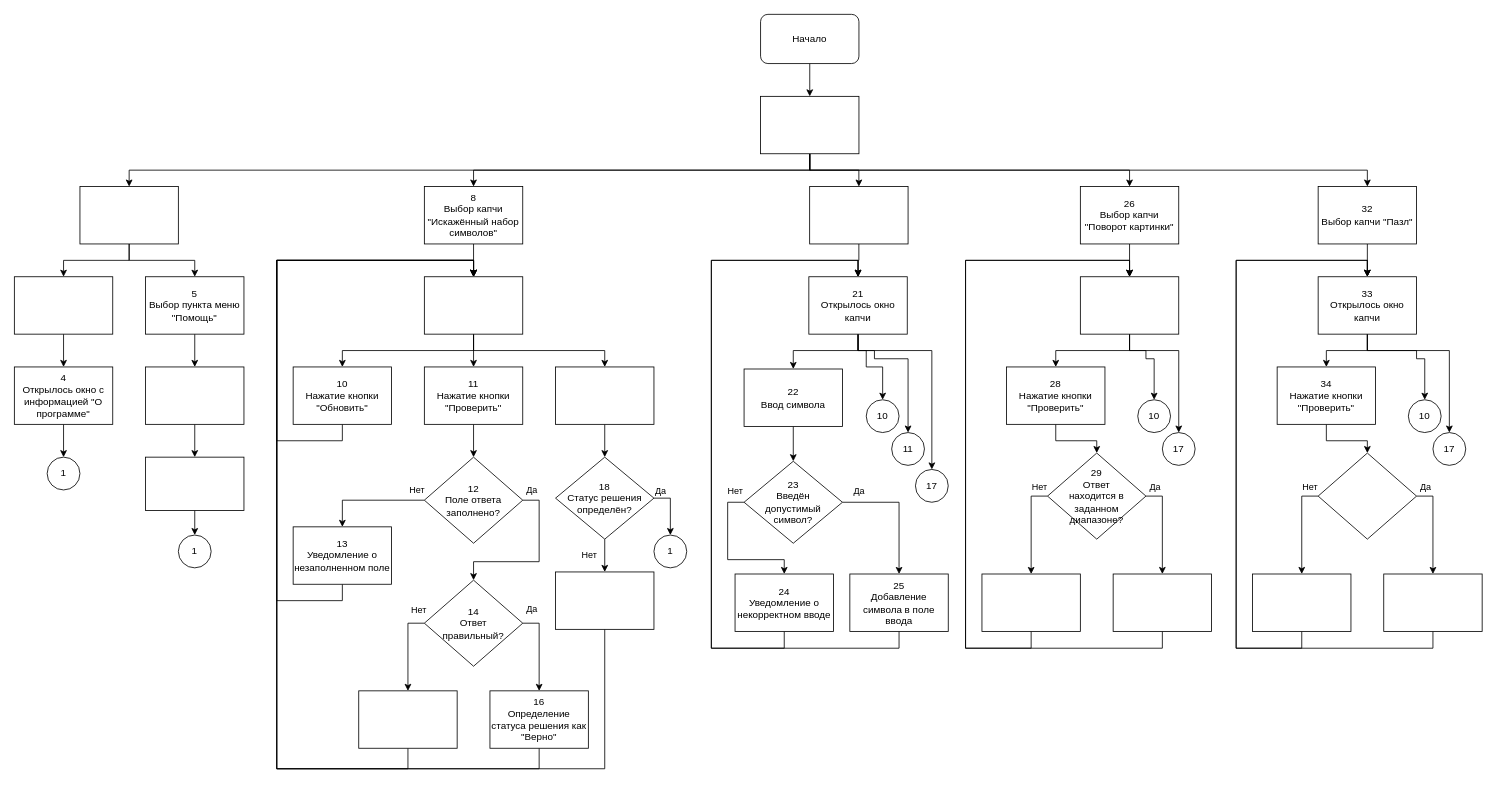
Some shapes in this 1497 by 790 pixel diagram are drawn without their labels. Here are the shapes that lost their labels. From the top down, the box of each, then its label:
(760, 96, 859, 154): 1 Открылось главное окно программы - хаб
(79, 186, 178, 244): 2 Выбор пункта меню "Справка"
(809, 186, 908, 244): 20 Выбор капчи "Искажённый математический пример"
(14, 276, 113, 334): 3 Нажатие кнопки "О программе"
(424, 276, 523, 334): 9 Открылось окно капчи
(1080, 276, 1179, 334): 27 Открылось окно капчи
(145, 366, 244, 424): 6 Нажатие одной из кнопок помощи по решению капчи
(555, 366, 654, 424): 17 Нажатие кнопки закрытия окна
(145, 456, 244, 510): 7 Открылось окно помощи по выбранной капче
(1317, 452, 1417, 539): 35 Индексы плиток установлены в исходный порядок?
(555, 571, 654, 629): 19 Уведомление о нерешенной капче
(981, 573, 1080, 631): 30 Определение статуса решения как "Не верно"
(1112, 573, 1212, 631): 31 Определение статуса решения как "Верно"
(1252, 573, 1351, 631): 36 Определение статуса решения как "Не верно"
(1383, 573, 1482, 631): 37 Определение статуса решения как "Верно"
(358, 690, 457, 748): 15 Определение статуса решения как "Не верно"
